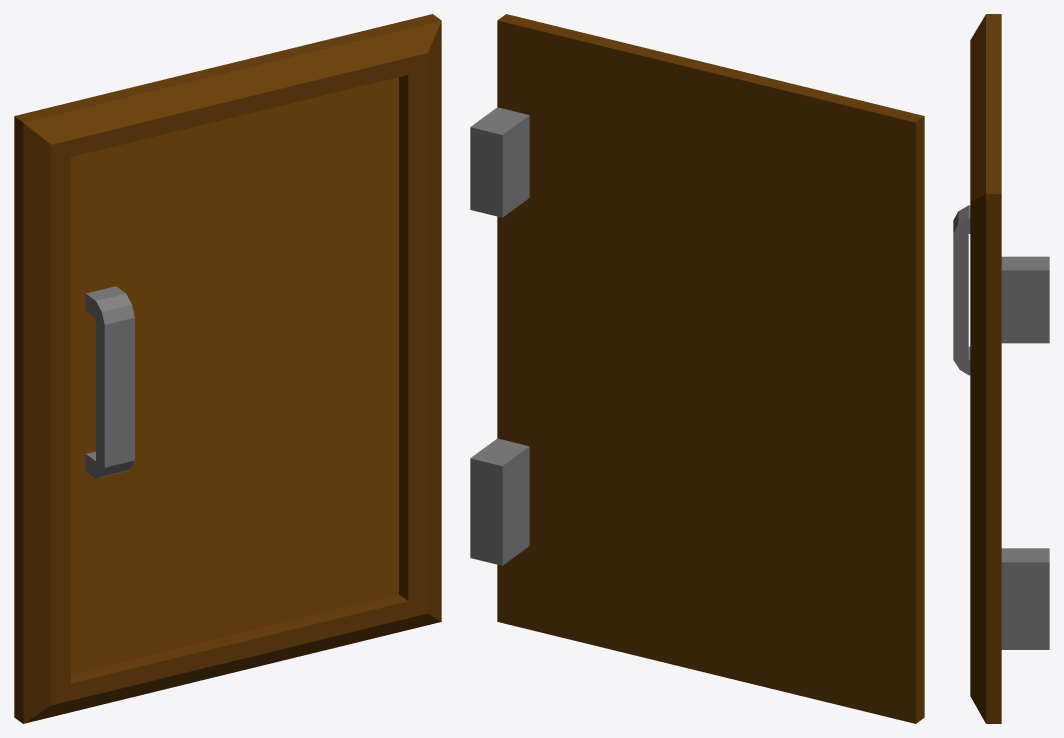
File: High_Cupboard_1_Door_Right.fbx
3 views of the same model, side by side, from view 1: azimuth 30°, elevation 25°; view 2: azimuth 150°, elevation 25°; view 3: azimuth 270°, elevation 25° (orthographic). The views are drawn at different scales.
Parts seen in each view (by area): view 1: Cube.181; view 2: Cube.181; view 3: Cube.181.
Boxes of the visible parts, x1,y1,x2,y2 form: Cube.181: [14, 14, 441, 723]; Cube.181: [470, 14, 924, 723]; Cube.181: [953, 14, 1049, 723].
Size of the model in its own units: 50.13 by 68.85 by 11.37.
